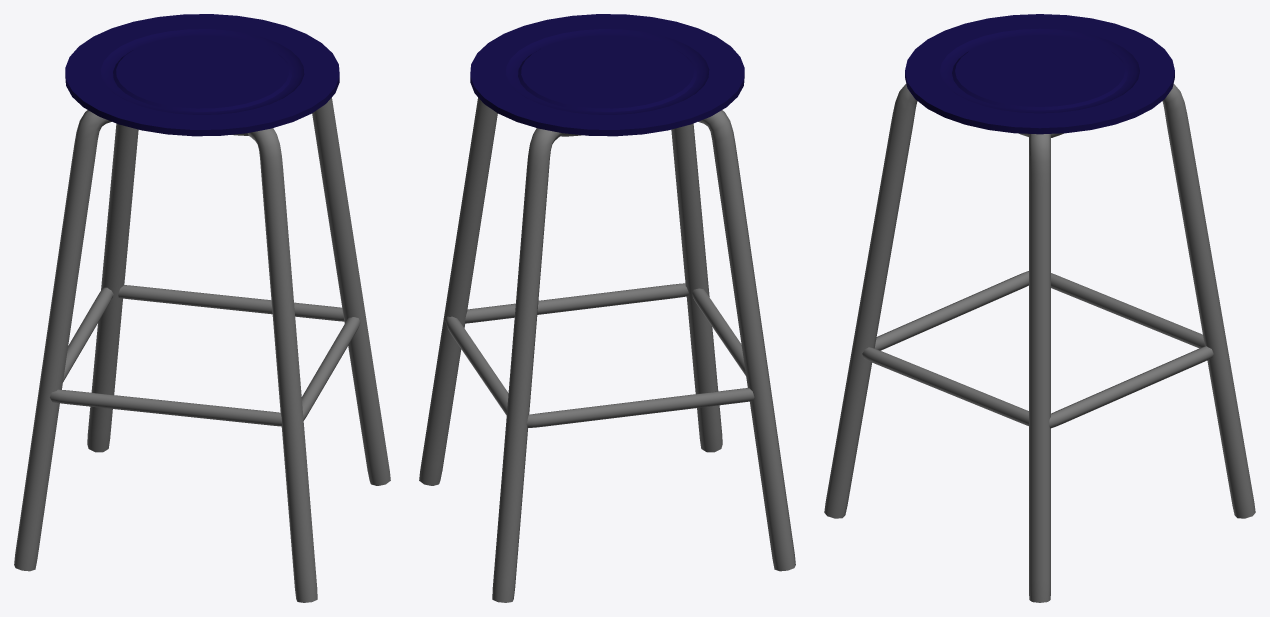
The model's file is HighChair.fbx.
3 views of the same model, side by side, from view 1: azimuth 30°, elevation 25°; view 2: azimuth 150°, elevation 25°; view 3: azimuth 270°, elevation 25° (orthographic).
Visible parts, largest first — view 1: HighChair; view 2: HighChair; view 3: HighChair.
Boxes of the visible parts, x1,y1,x2,y2 form: HighChair: [14, 14, 390, 602]; HighChair: [419, 14, 795, 602]; HighChair: [824, 14, 1255, 602].
Bounding box in the file's own units: 844 × 978 × 859.
